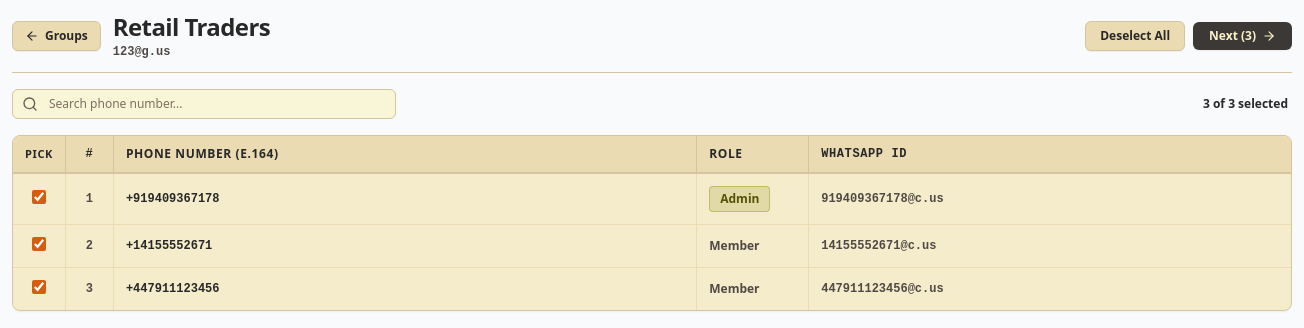
Test: ParticipantSelector component › toggles individual participant checkboxes and updates selected count
# First checkbox in list is participant 1 (skip select all button)
Click the checkbox in the row of "+919409367178".
click(39, 197)  # box x1=32 y1=190 x2=46 y2=204
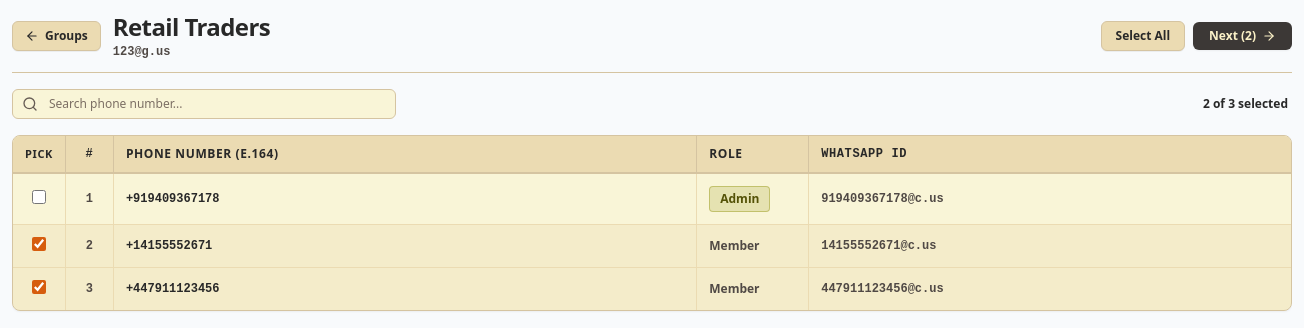
Check: the text "2 of 3 selected" is shown, box x1=1203 y1=95 x2=1288 y2=112
